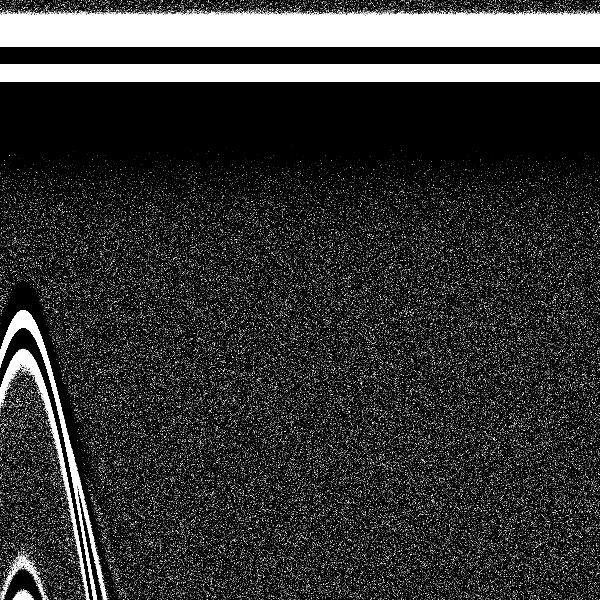pipe: (1, 6, 60, 369)
